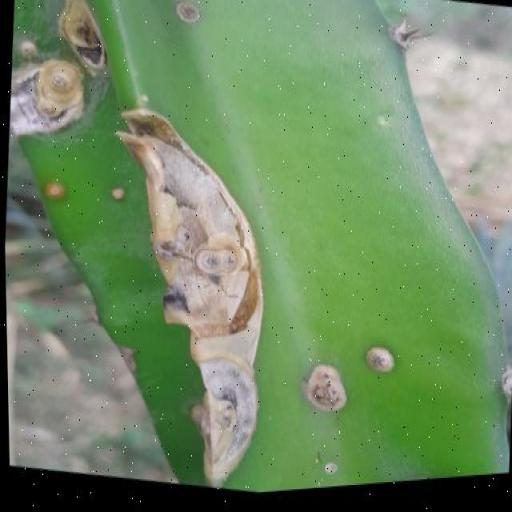stemcanker: (388, 306, 408, 367), (112, 149, 127, 186)
